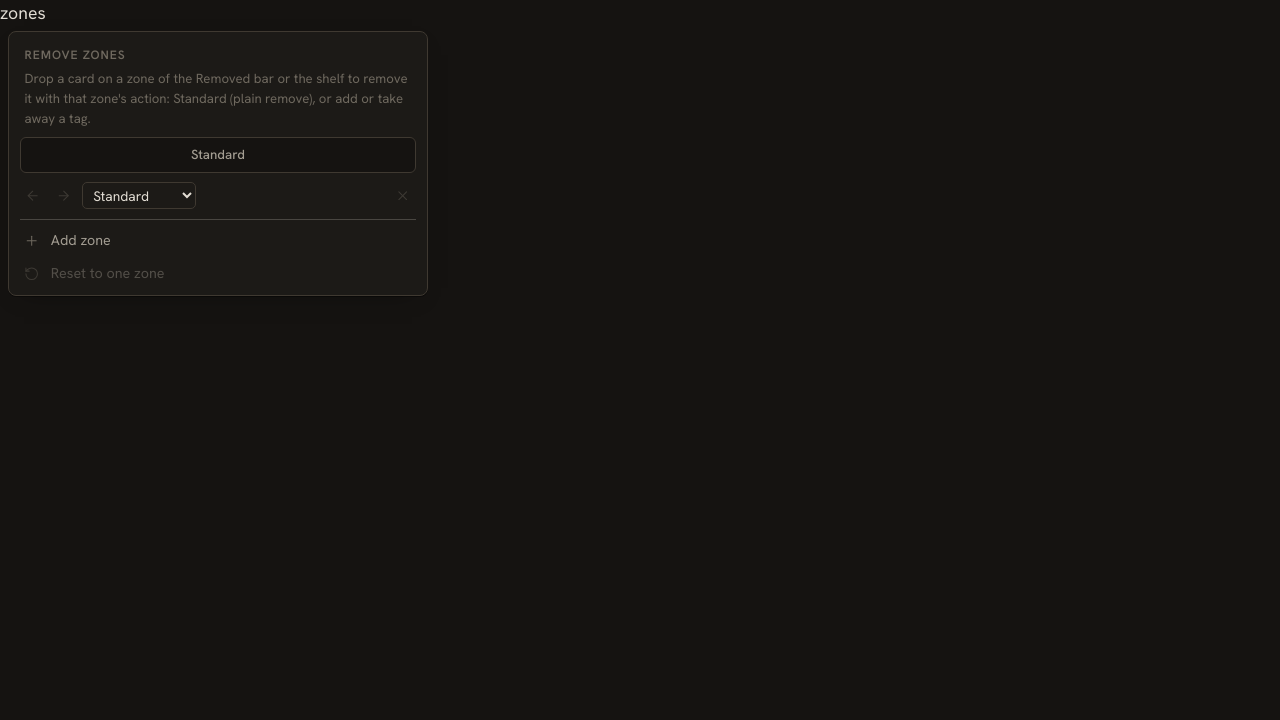
Scenario: RemoveZonesEditor (TG-06) › Add zone splits the width evenly; an action and its tag set a zone, the tag normalised when the field is left (TG-06)
Click the button "Add zone": (81, 240) [13,224,423,257]
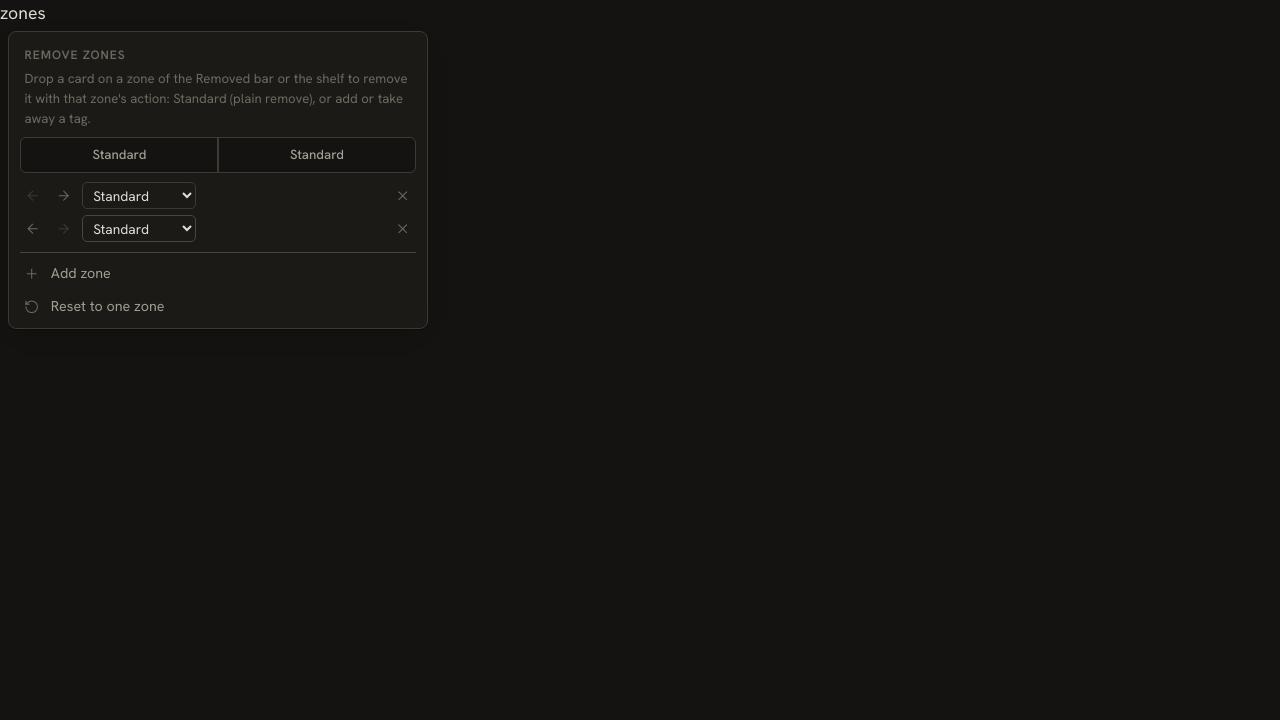
Select "Add tag" in the dropdown named "Zone 2 action": (139, 229) [82,216,196,242]
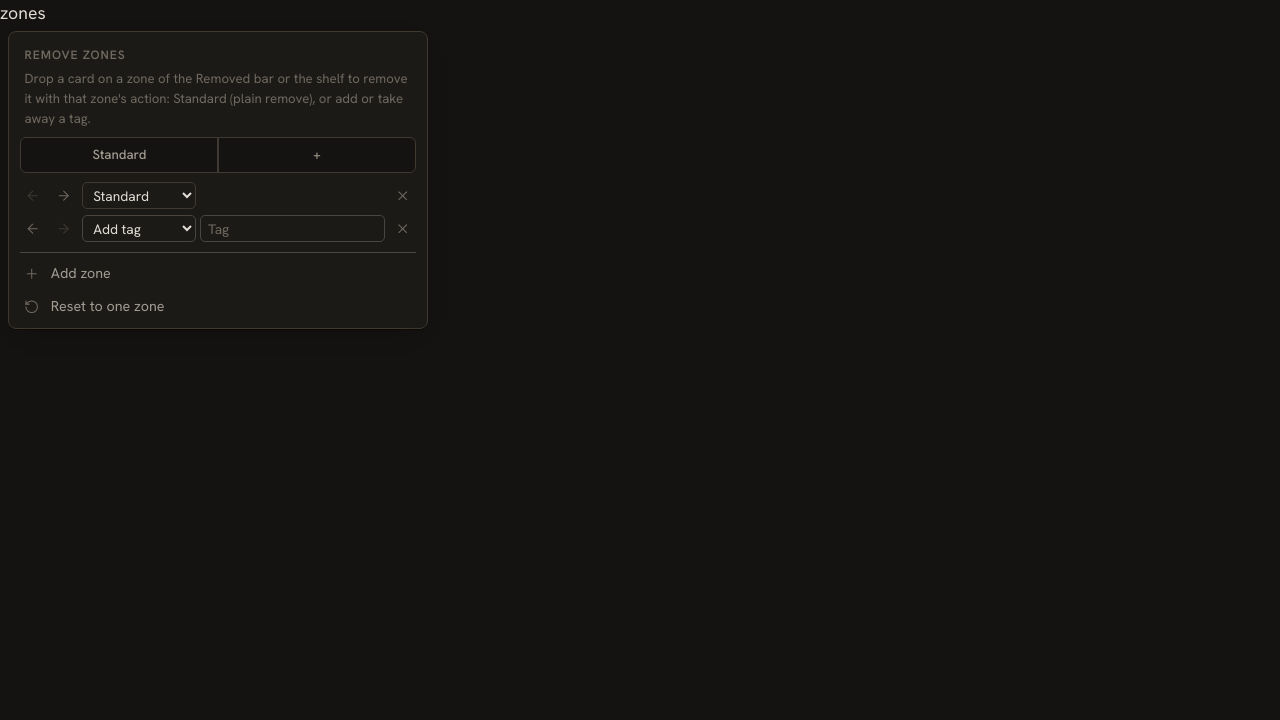
In the field named "Zone 2 tag": (293, 229) [200,216,385,242], type "  needs   review "
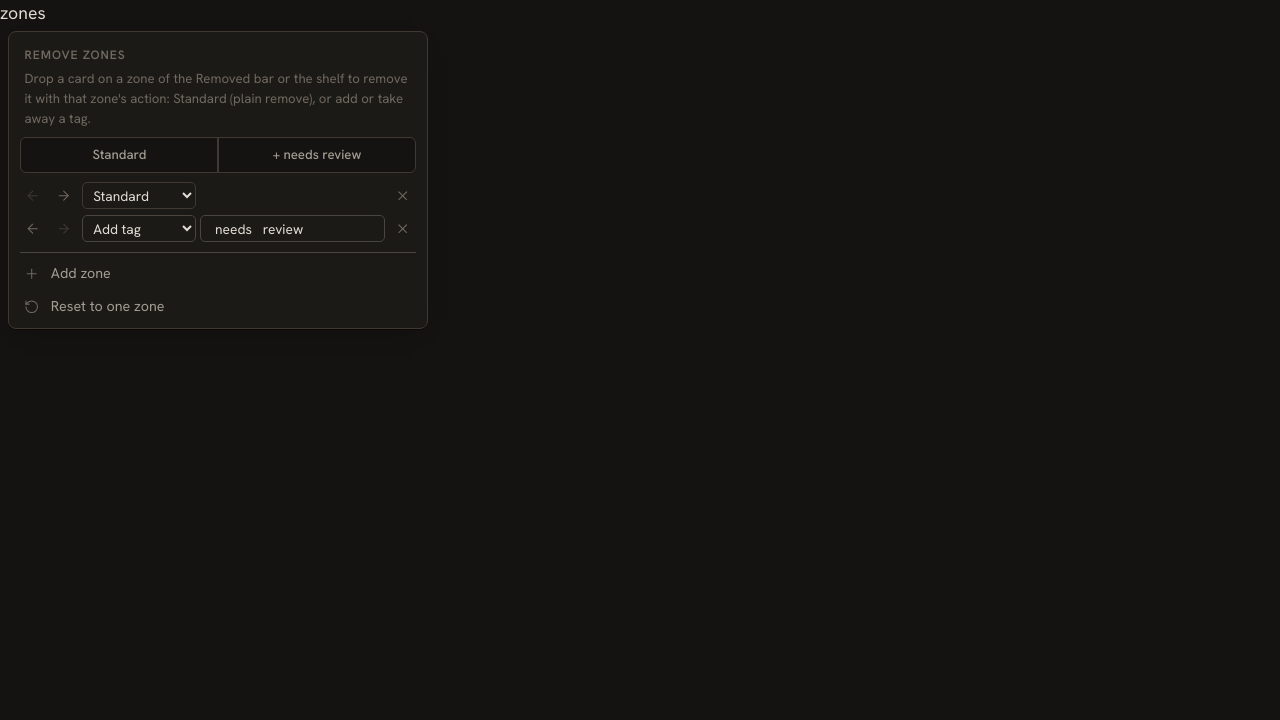
Leave the field named "Zone 2 tag", box [200,216,385,242]
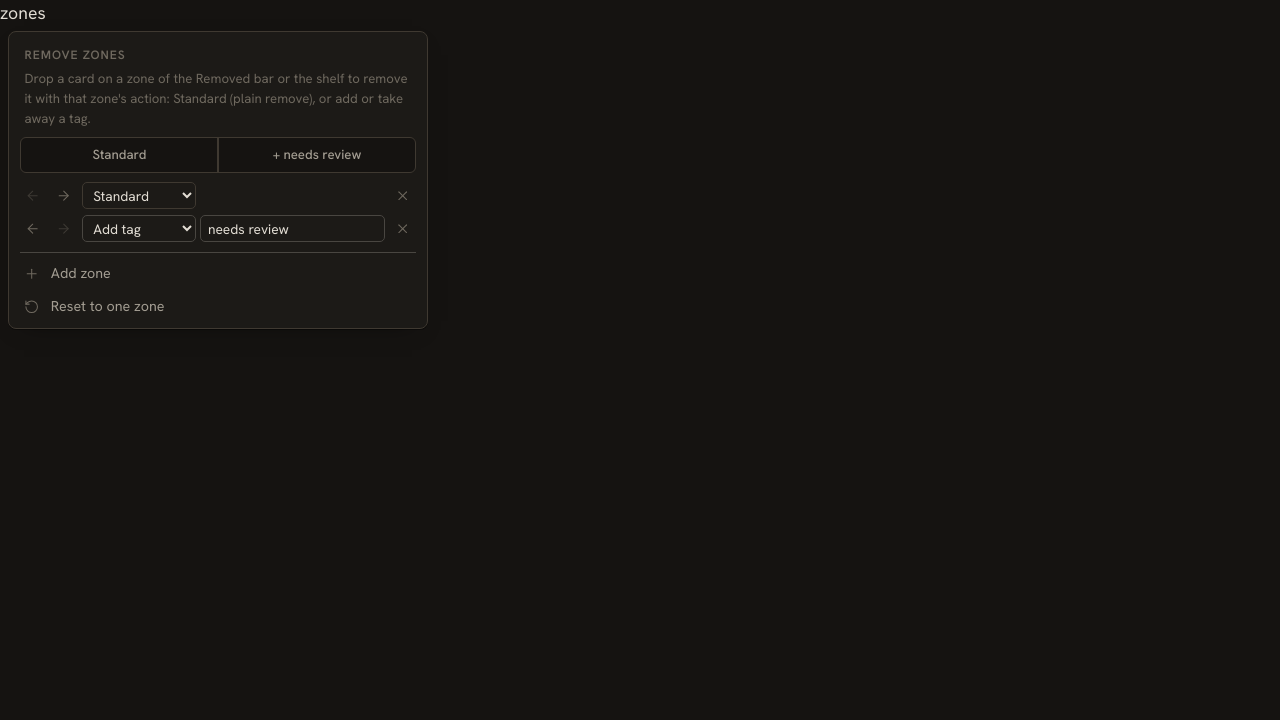
Select "Remove tag" in the dropdown named "Zone 2 action": (139, 229) [82,216,196,242]
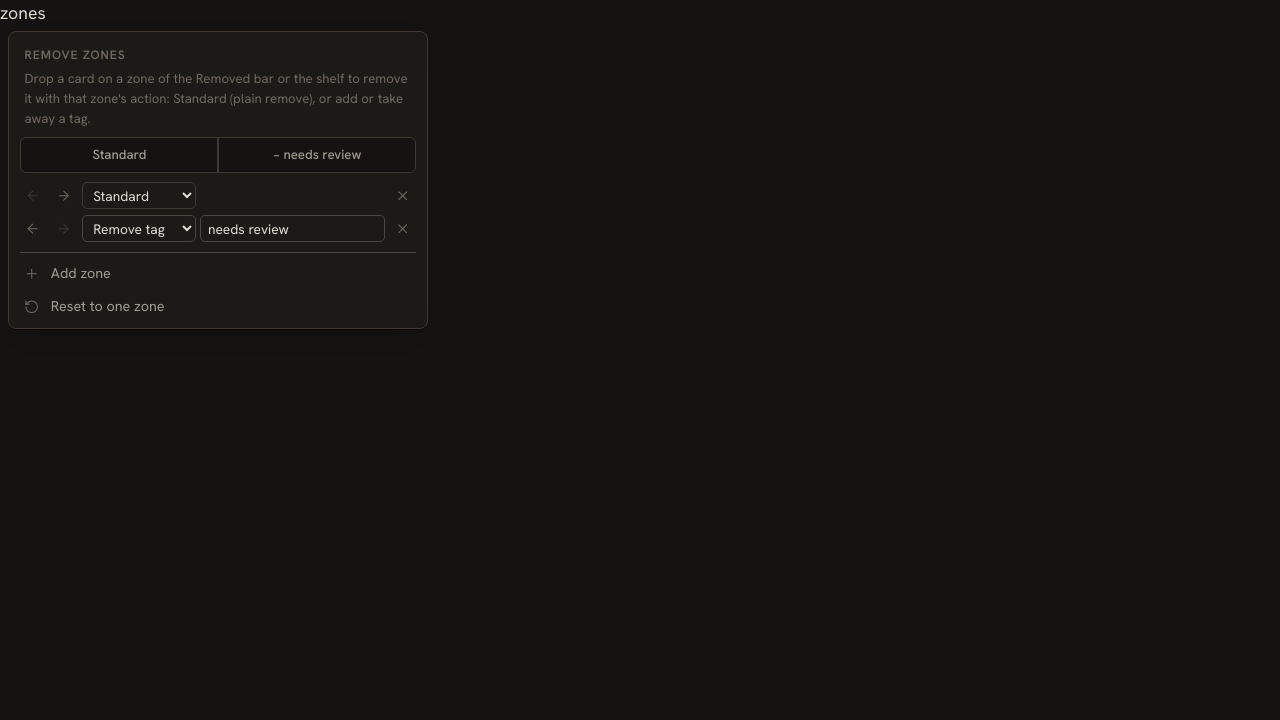
Select "Standard" in the dropdown named "Zone 2 action": (139, 229) [82,216,196,242]
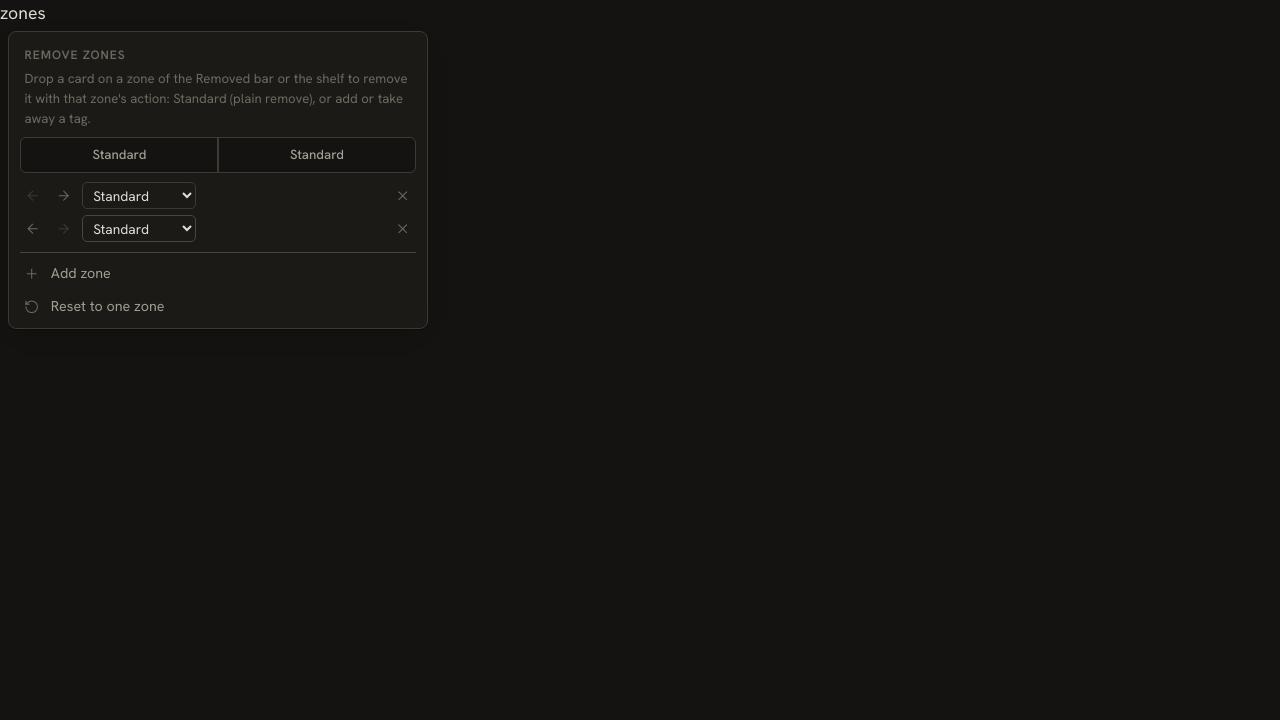
Result: the field labelled "Zone 2 tag" is gone
